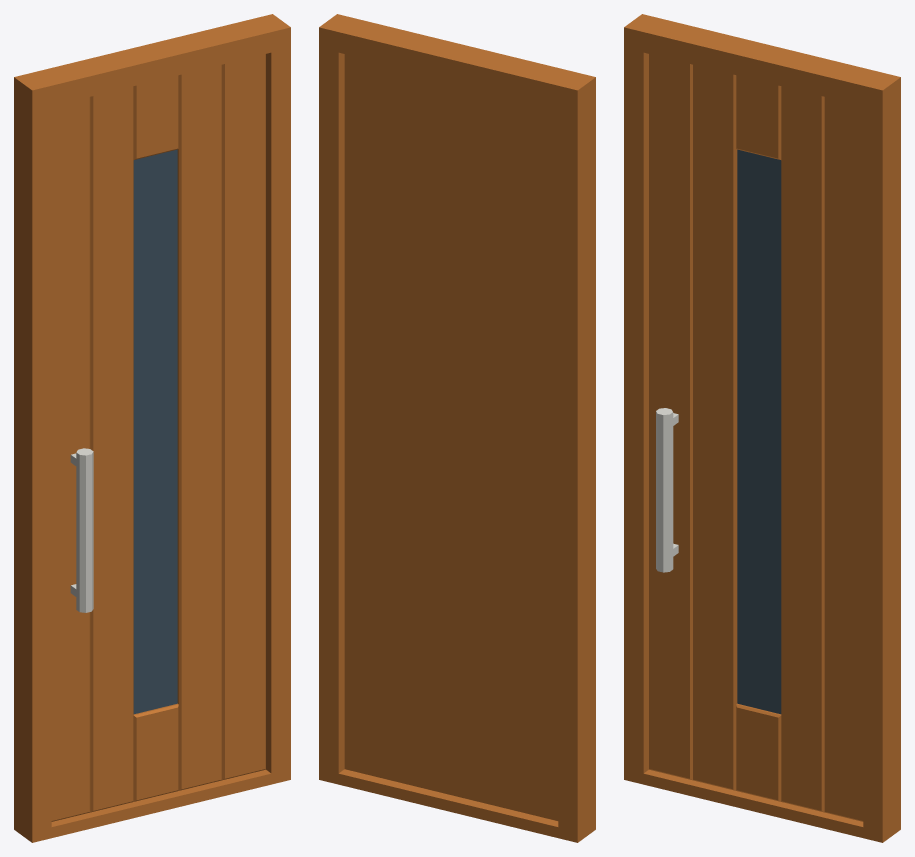
File: SM_Opening_Door07423_WoodOrange_01.gltf
The picture shows the model from 3 angles, left to right: view 1: azimuth 30°, elevation 25°; view 2: azimuth 150°, elevation 25°; view 3: azimuth 330°, elevation 25°; orthographic projection.
Visible parts, largest first — view 1: SM_Opening_Door07423_WoodOrange_01; view 2: SM_Opening_Door07423_WoodOrange_01; view 3: SM_Opening_Door07423_WoodOrange_01.
Boxes of the visible parts, <box> form: SM_Opening_Door07423_WoodOrange_01: <box>14,14,290,842</box>; SM_Opening_Door07423_WoodOrange_01: <box>319,14,595,842</box>; SM_Opening_Door07423_WoodOrange_01: <box>624,14,900,842</box>.
Bounding box in the file's own units: 0.86 × 2.39 × 0.1631.
1 material, 1 textured.
